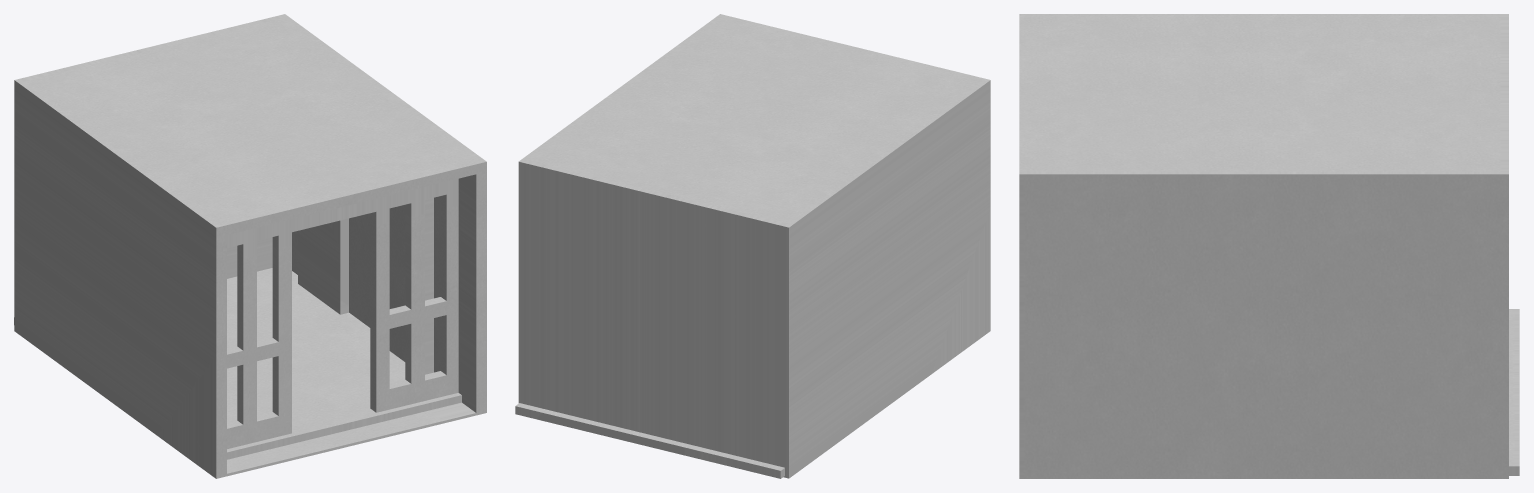
Rendered from лифт1.fbx.
3 renders of one model, left to right at view 1: azimuth 30°, elevation 25°; view 2: azimuth 150°, elevation 25°; view 3: azimuth 270°, elevation 25°, orthographic. The views are drawn at different scales.
Visible parts, largest first — view 1: Лифт; view 2: Лифт; view 3: Лифт.
Part boxes in pixels (x1,y1,x2,y2): Лифт: (14, 14, 486, 478); Лифт: (515, 14, 990, 478); Лифт: (1019, 14, 1519, 478).
Bounding box in the file's own units: 3.47 × 3.08 × 4.57.
